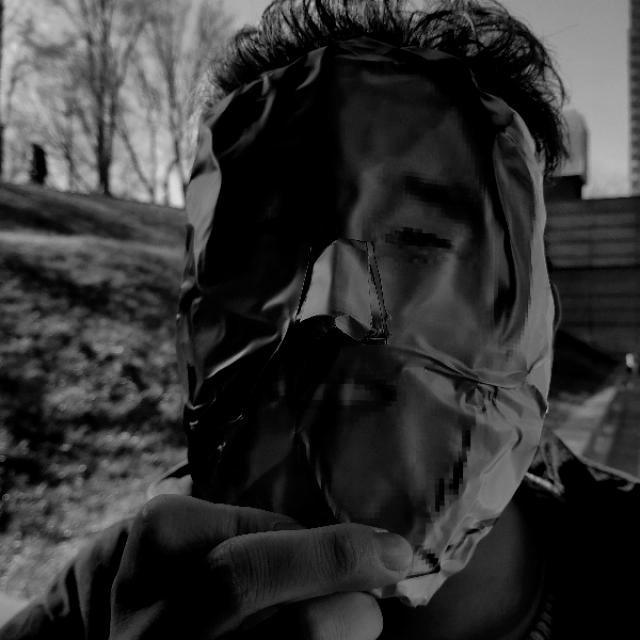fake: (184, 18, 534, 584)
